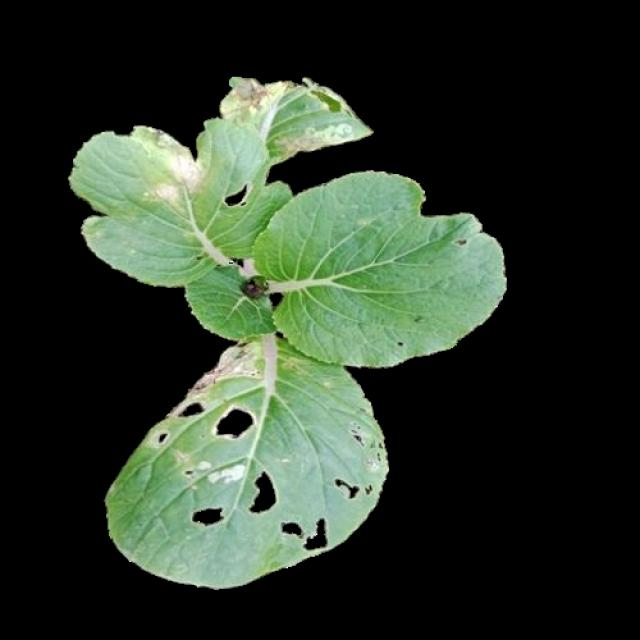not-mature: (73, 75, 506, 588)
unhealthy: (104, 334, 385, 589), (255, 173, 504, 363), (72, 118, 290, 285), (219, 76, 371, 158)
